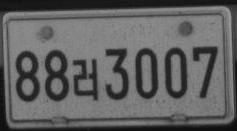0: (134, 47, 159, 100), (164, 46, 188, 98)
3: (104, 48, 129, 100)
7: (191, 46, 218, 99)
8: (15, 49, 41, 103), (44, 48, 70, 102)
러: (72, 58, 99, 100)
